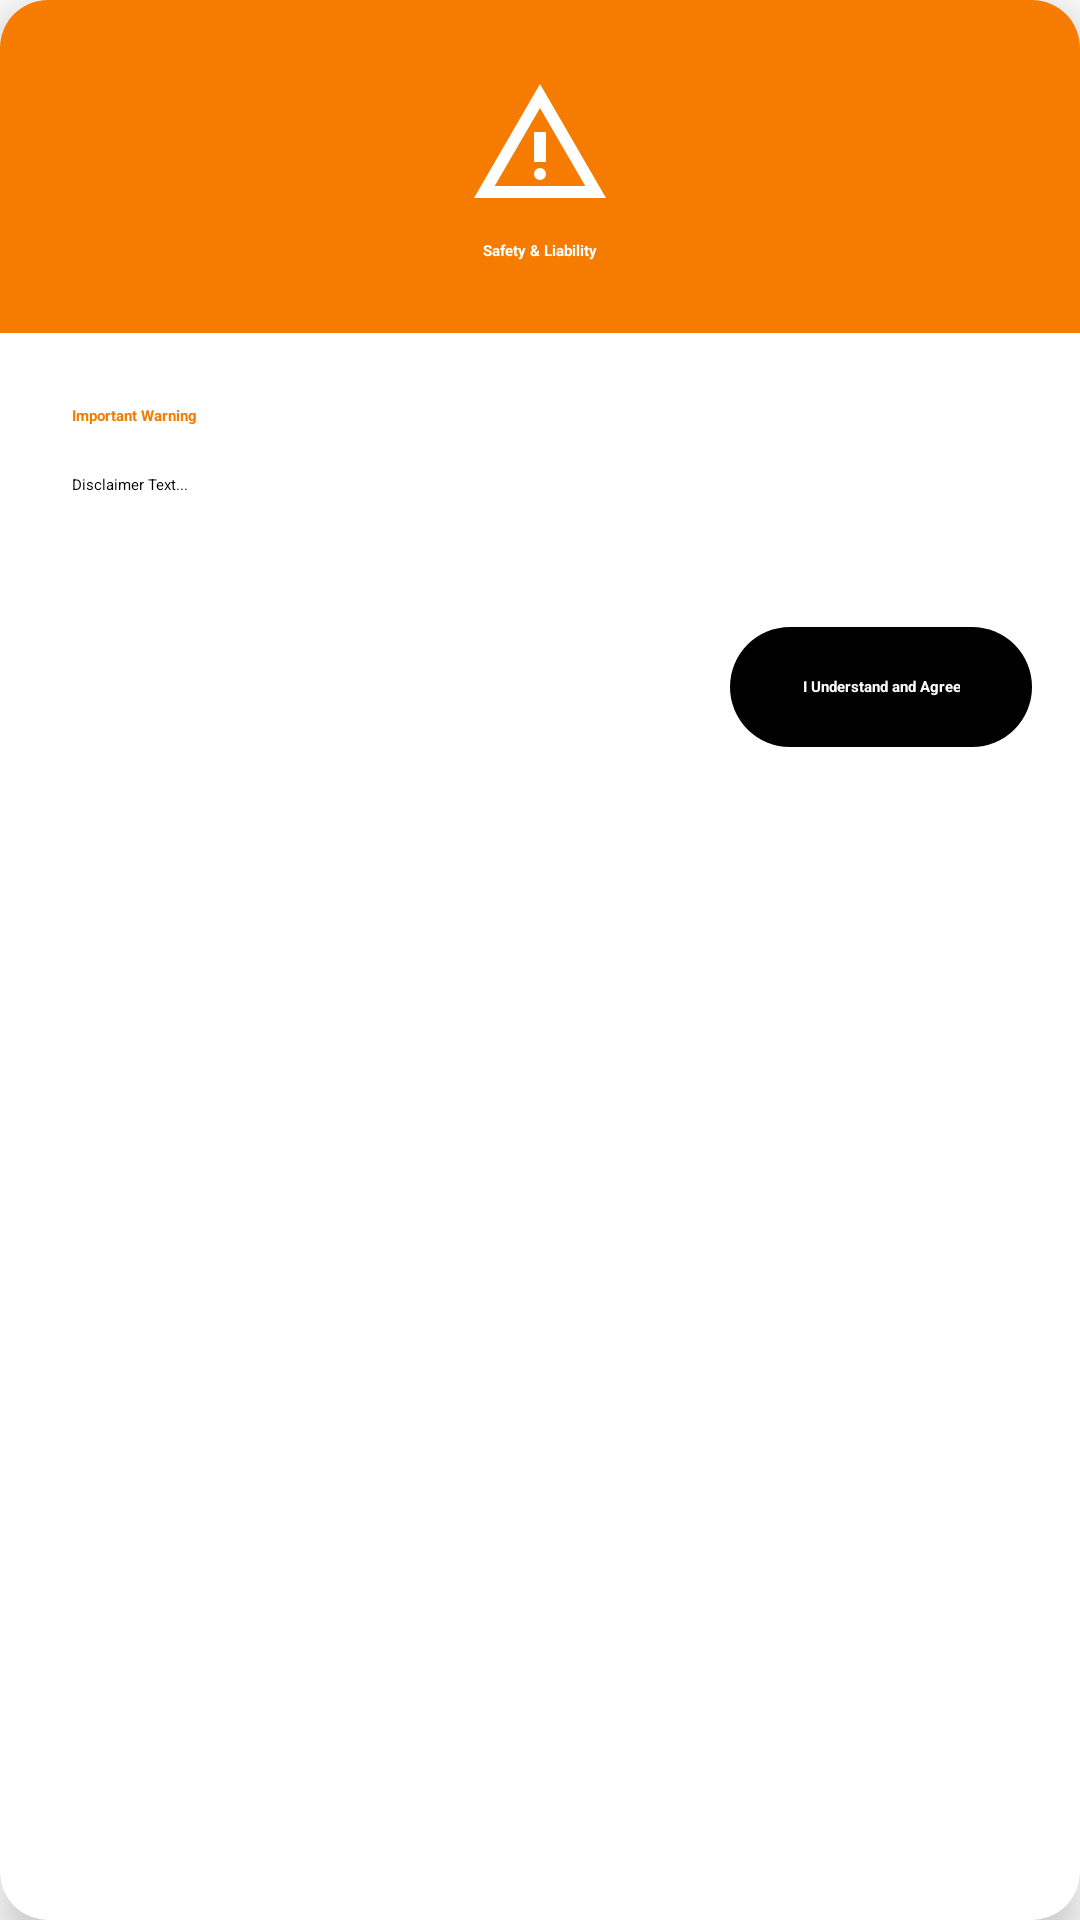

Where icons sit on this 1080px x 1920px app screen, as detection(x1, y1, x2, y2):
warning: detection(474, 84, 606, 198)
